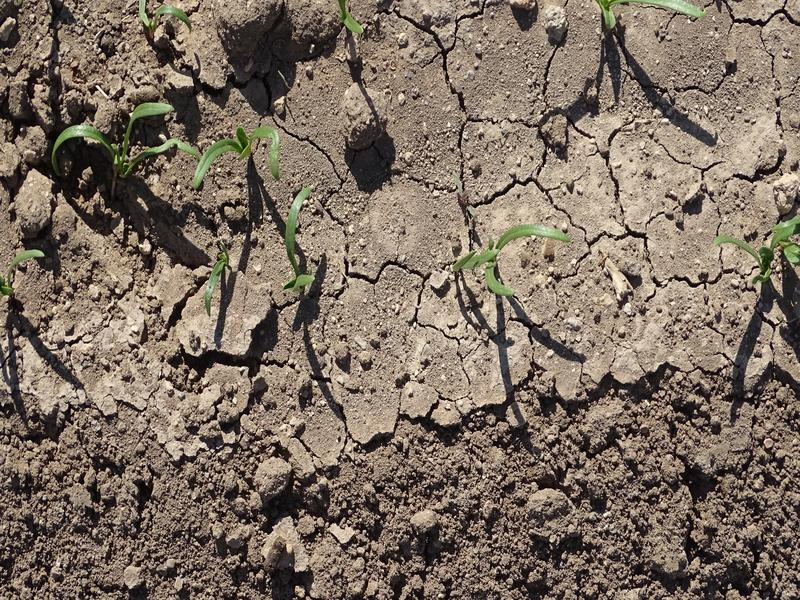Espinaca: (45, 105, 289, 181), (447, 221, 559, 300), (716, 212, 797, 275), (589, 1, 715, 37), (288, 184, 317, 290), (1, 247, 45, 297), (138, 2, 199, 34), (202, 243, 230, 306), (336, 10, 373, 39)
